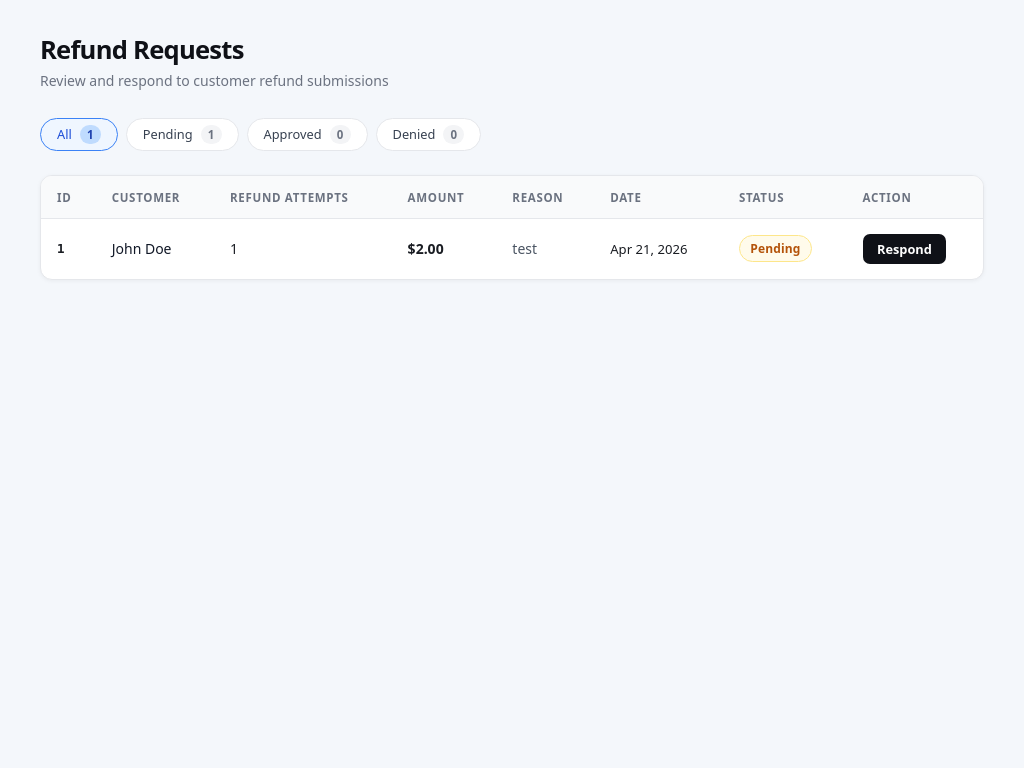
Test case: RefundsPage UI (Integration with mocks) › approves a refund and updates the correct row
expect the text "Pending" is shown: met, box x1=739 y1=235 x2=812 y2=262
Click the button "Respond": [904, 249] box x1=863 y1=234 x2=946 y2=264
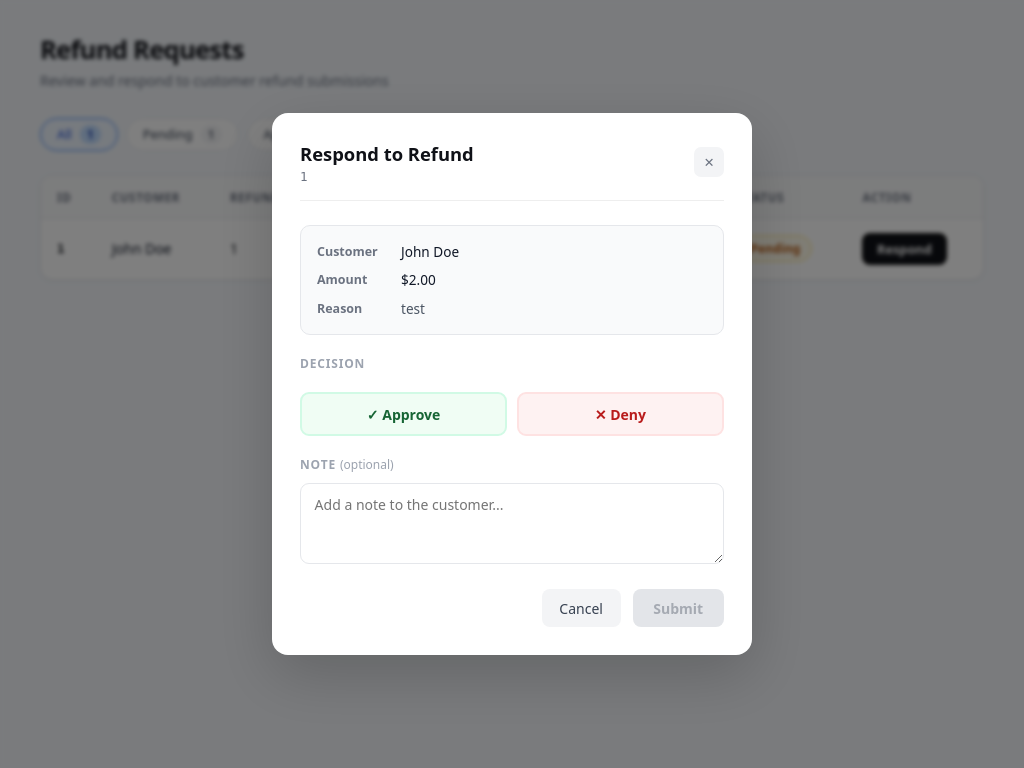
Click the button "✓ Approve": [404, 414] box x1=300 y1=392 x2=507 y2=436
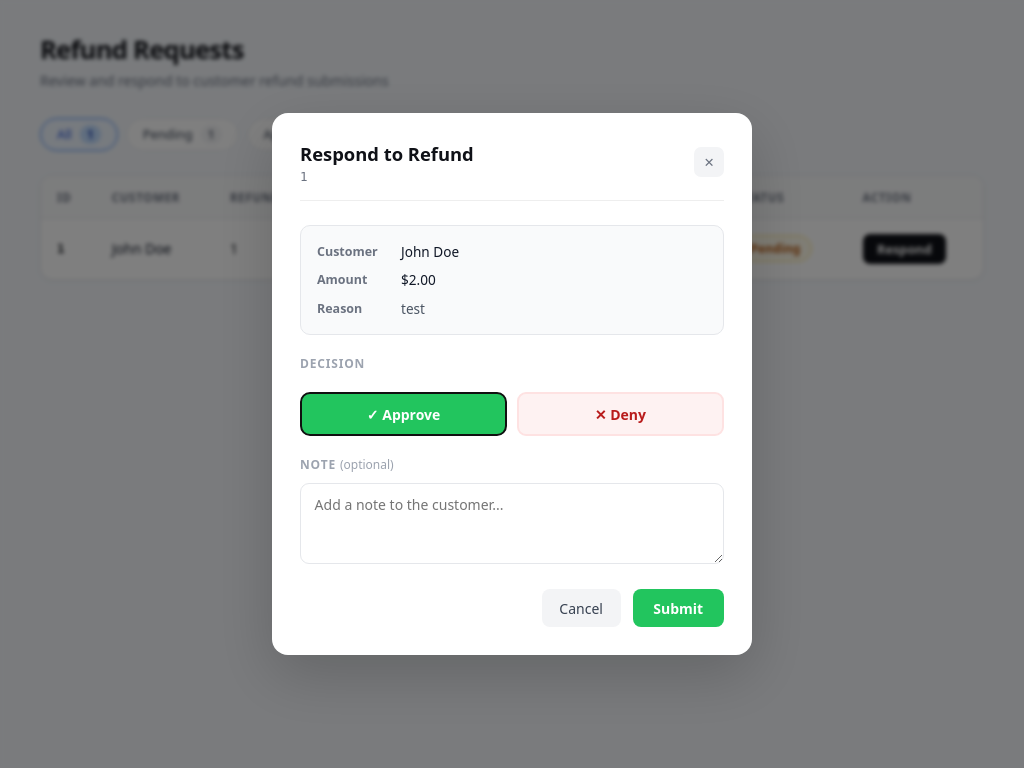
Click the button "Submit": [678, 608] box x1=632 y1=589 x2=724 y2=627
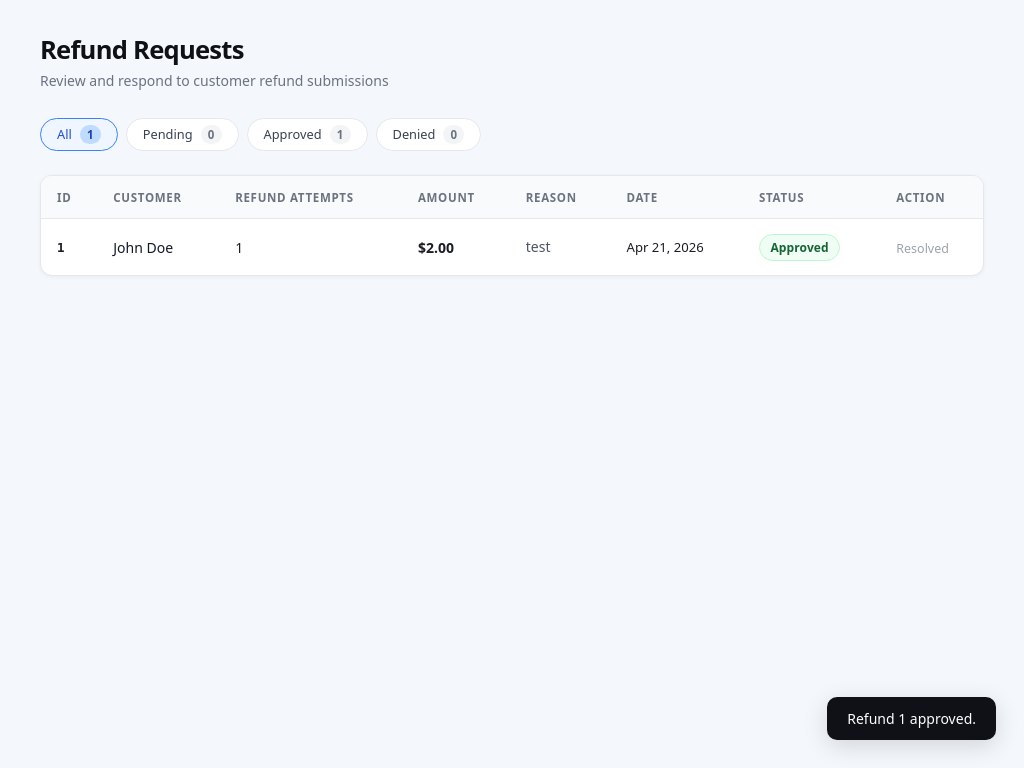
expect the text "Approved" is shown: met, box x1=759 y1=234 x2=840 y2=260
expect the text "Refund 1 approved." is shown: met, box x1=827 y1=697 x2=996 y2=740
expect the text with class "toast" shows "approved": met, box x1=847 y1=709 x2=976 y2=728
